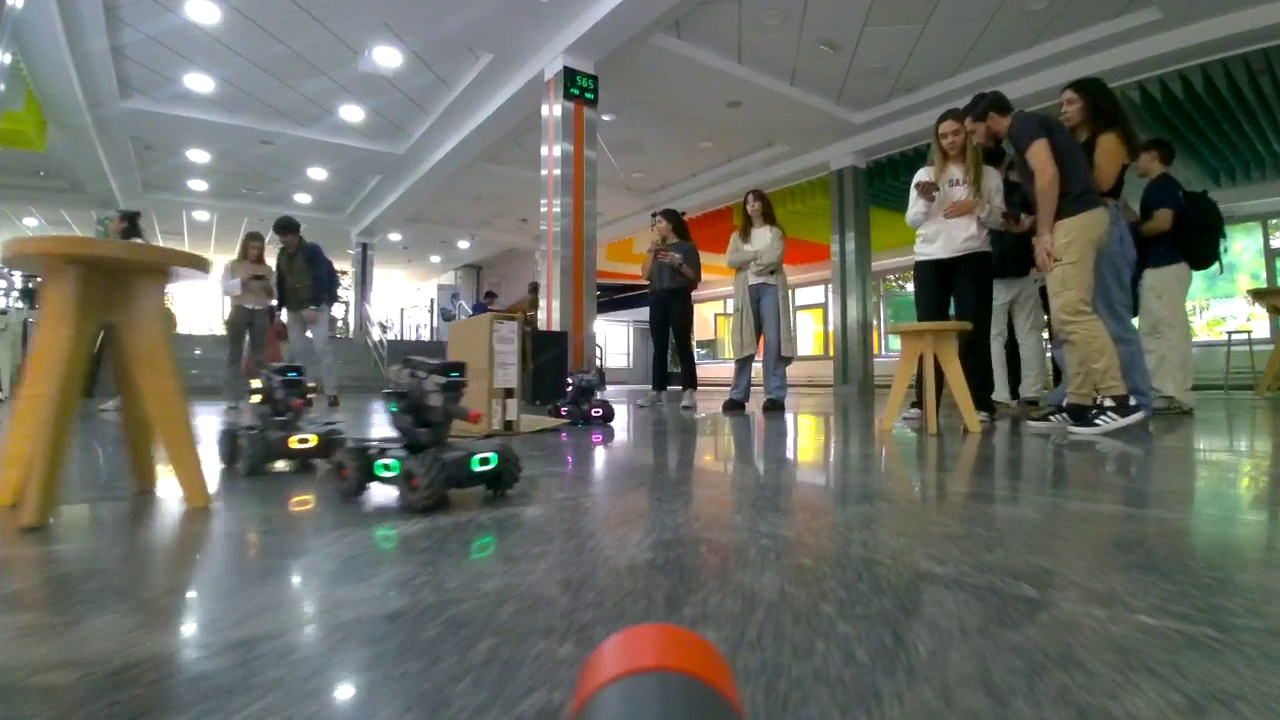robot: (325, 358, 529, 498), (215, 361, 357, 477), (540, 367, 621, 424)
